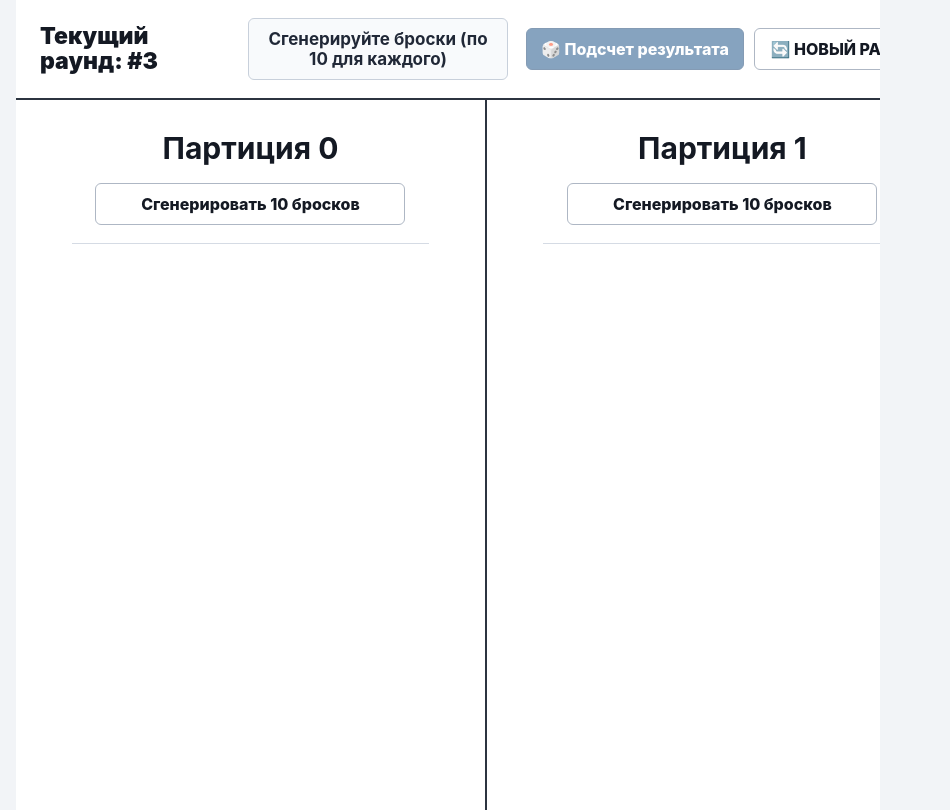
Scenario: App round flow › generates both partitions, calculates, then resets for the next round
Expected: the text "Текущий раунд: #3" is shown, [40,22,158,75]
Expected: the button "🎲 Подсчет результата" is disabled, [526,28,744,70]
Click the 1st button "Сгенерировать 10 бросков". click: (250, 204)
box: [96,183,406,225]
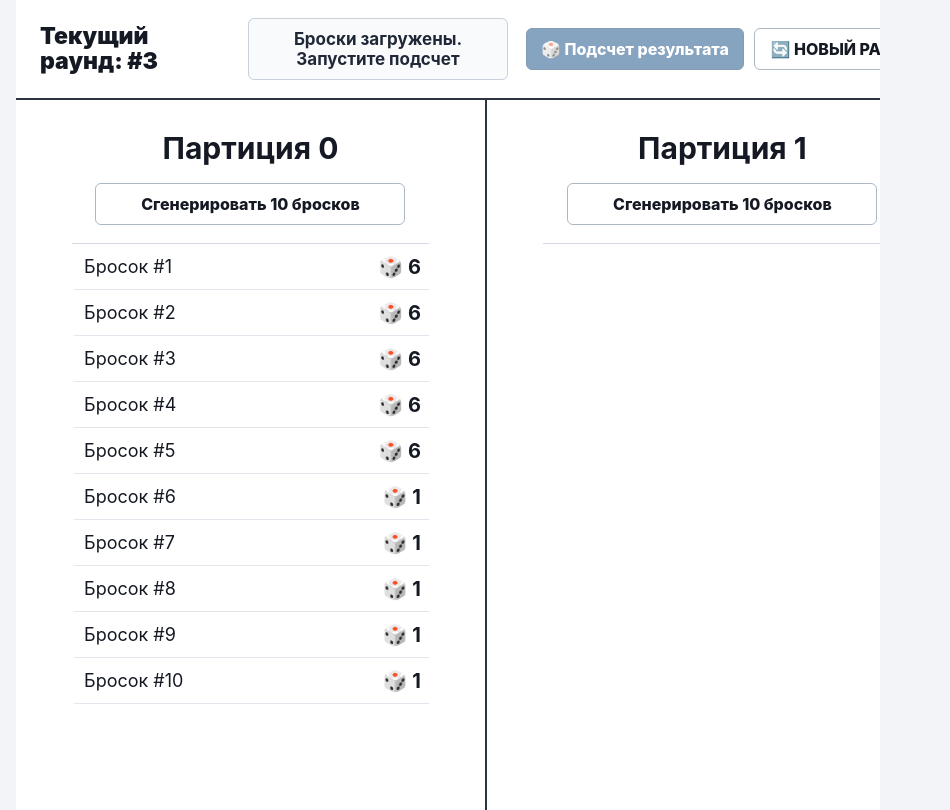
Expected: the button "🎲 Подсчет результата" is disabled, [526,28,744,70]
Now the number of list items is 10
Click the 2nd button "Сгенерировать 10 бросков". click: (722, 204)
box: [567,183,877,225]
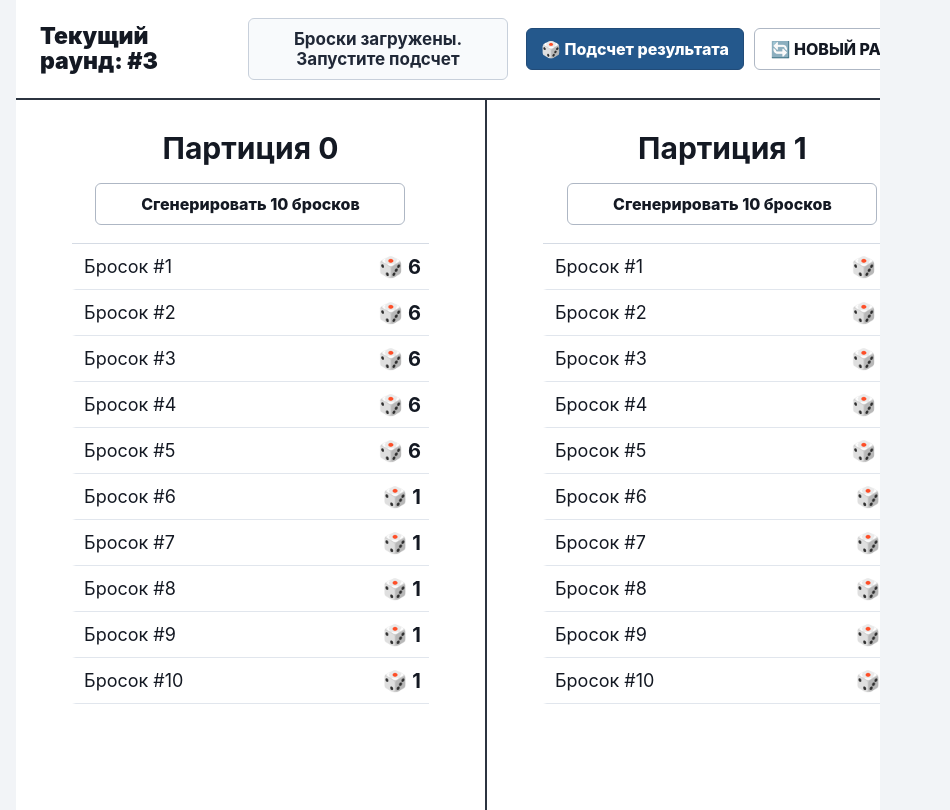
Now the button "🎲 Подсчет результата" is enabled
Click the button "🎲 Подсчет результата". click: (635, 49)
box: [526,28,744,70]
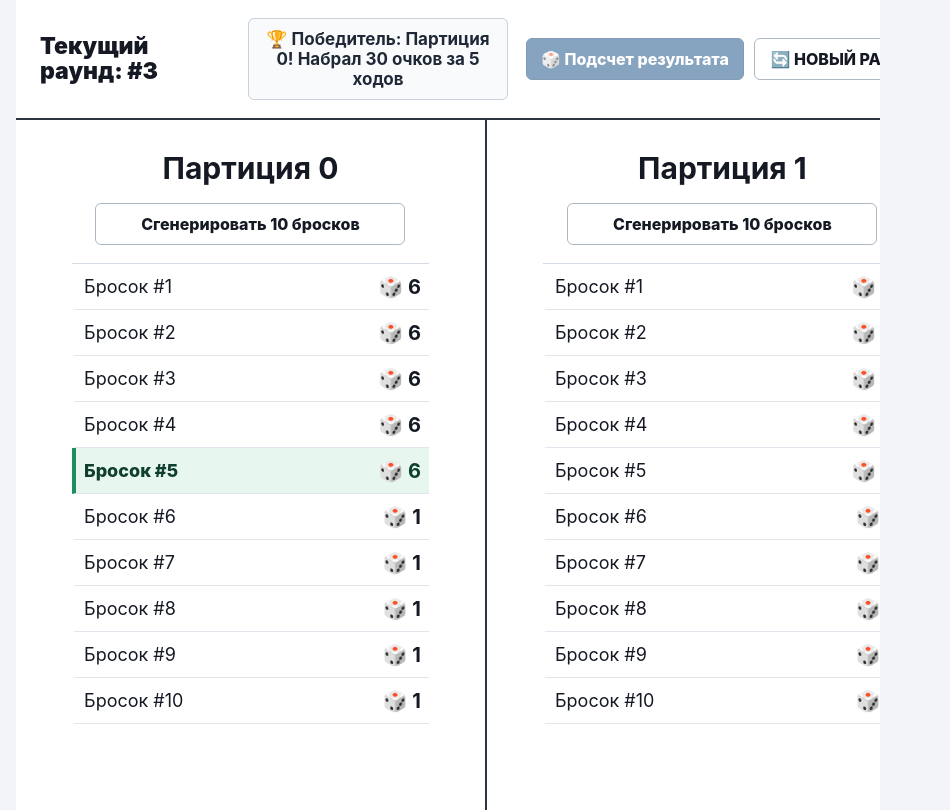
Now the text "🏆 Победитель: Партиция 0! Набрал 30 очков за 5 ходов" is shown, box [248,18,508,100]
Click the button "🔄 НОВЫЙ РАУНД". click: (844, 59)
box: [754,38,934,80]
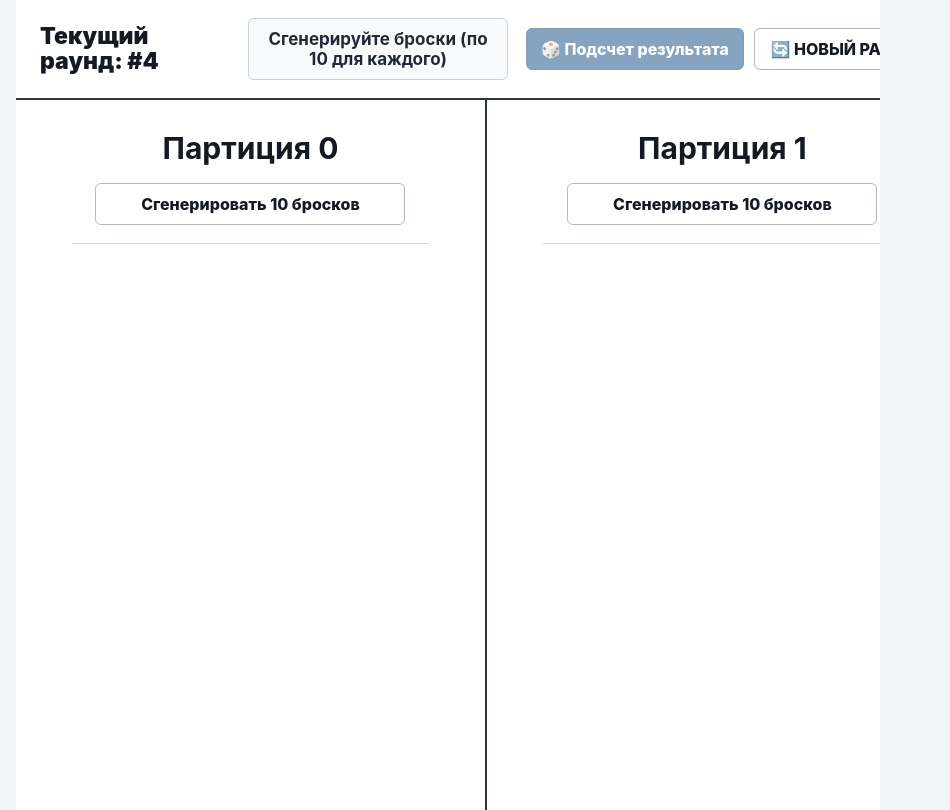
Now the button "🎲 Подсчет результата" is disabled, box [526,28,744,70]
Now the text "Текущий раунд: #4" is shown, box [40,22,159,75]
Now the text "Сгенерируйте броски (по 10 для каждого)" is shown, box [248,18,508,80]
